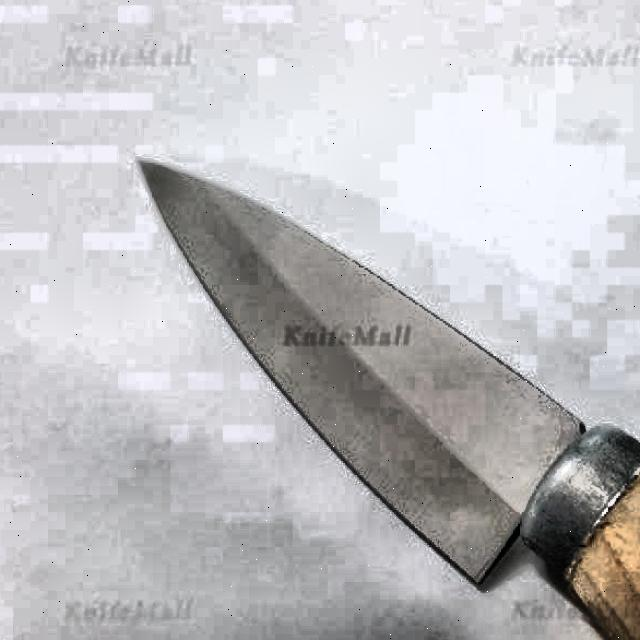knife: (133, 149, 640, 640)
